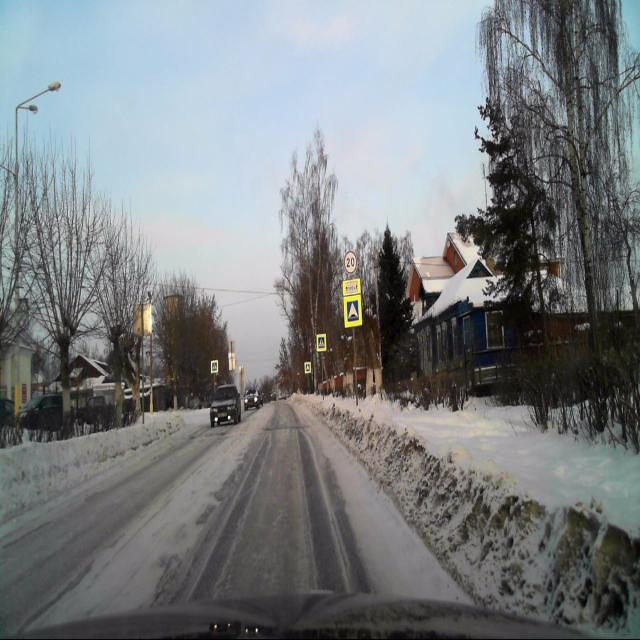road sign: (344, 295, 362, 328), (342, 278, 360, 296), (316, 333, 326, 351)
